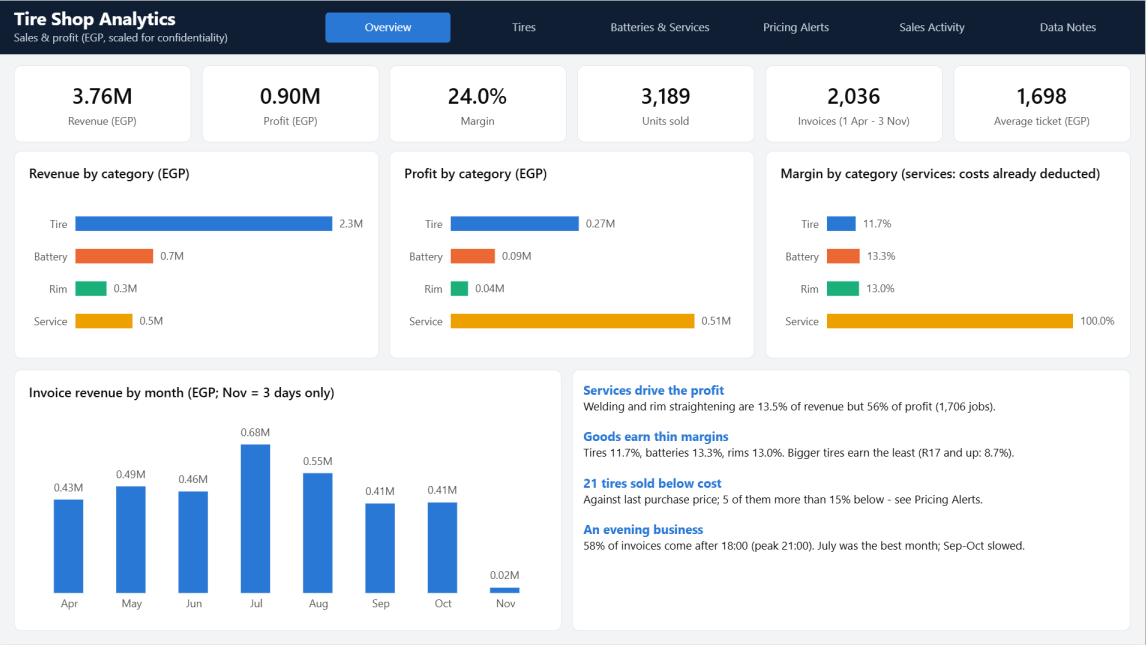

Layout of this report page (visuals, bound fields, positions):
{"tool":"powerbi","page":{"name":"Overview","canvas":[1280,720],"ordinal":0},"visuals":[{"type":"shape","box":[0,0,1280,60],"z":100},{"type":"textbox","box":[16,6,340,50],"z":200},{"type":"pageNavigator","box":[364,13,900,34],"z":300},{"type":"card","fields":{"Values":["Product Sales.Revenue"]},"box":[16,72,198,86],"z":400},{"type":"card","fields":{"Values":["Product Sales.Profit"]},"box":[226,72,198,86],"z":500},{"type":"card","fields":{"Values":["Product Sales.Margin %"]},"box":[436,72,198,86],"z":600},{"type":"card","fields":{"Values":["Product Sales.Units Sold"]},"box":[646,72,198,86],"z":700},{"type":"card","fields":{"Values":["Invoices.Invoice Count"]},"box":[856,72,198,86],"z":800},{"type":"card","fields":{"Values":["Invoices.Avg Ticket"]},"box":[1066,72,198,86],"z":900},{"type":"clusteredBarChart","title":"Revenue by category (EGP)","fields":{"Category":["Products.Category"],"Y":["Product Sales.Revenue"]},"box":[16,168,408,232],"z":1000},{"type":"clusteredBarChart","title":"Profit by category (EGP)","fields":{"Category":["Products.Category"],"Y":["Product Sales.Profit"]},"box":[436,168,408,232],"z":1100},{"type":"clusteredBarChart","title":"Margin by category  (services: costs already deducted)","fields":{"Category":["Products.Category"],"Y":["Product Sales.Margin %"]},"box":[856,168,408,232],"z":1200},{"type":"clusteredColumnChart","title":"Invoice revenue by month (EGP; Nov = 3 days only)","fields":{"Category":["Calendar.Month Short"],"Y":["Invoices.Invoice Revenue"]},"box":[16,412,612,292],"z":1300},{"type":"textbox","box":[640,412,624,292],"z":1400}]}

Visuals, with their boxes in screenshot pixels (x1, y1, x2, y2), scaled from the page's 1280x720 canvas onto the 1146x645 screenshot:
shape: bbox=[0, 0, 1145, 54]
textbox: bbox=[14, 5, 319, 50]
pageNavigator: bbox=[326, 12, 1132, 42]
card - Product Sales.Revenue: bbox=[14, 64, 192, 142]
card - Product Sales.Profit: bbox=[202, 64, 380, 142]
card - Product Sales.Margin %: bbox=[390, 64, 568, 142]
card - Product Sales.Units Sold: bbox=[578, 64, 756, 142]
card - Invoices.Invoice Count: bbox=[766, 64, 944, 142]
card - Invoices.Avg Ticket: bbox=[954, 64, 1132, 142]
"Revenue by category (EGP)" clusteredBarChart: bbox=[14, 150, 380, 358]
"Profit by category (EGP)" clusteredBarChart: bbox=[390, 150, 756, 358]
"Margin by category  (services: costs already deducted)" clusteredBarChart: bbox=[766, 150, 1132, 358]
"Invoice revenue by month (EGP; Nov = 3 days only)" clusteredColumnChart: bbox=[14, 369, 562, 631]
textbox: bbox=[573, 369, 1132, 631]
